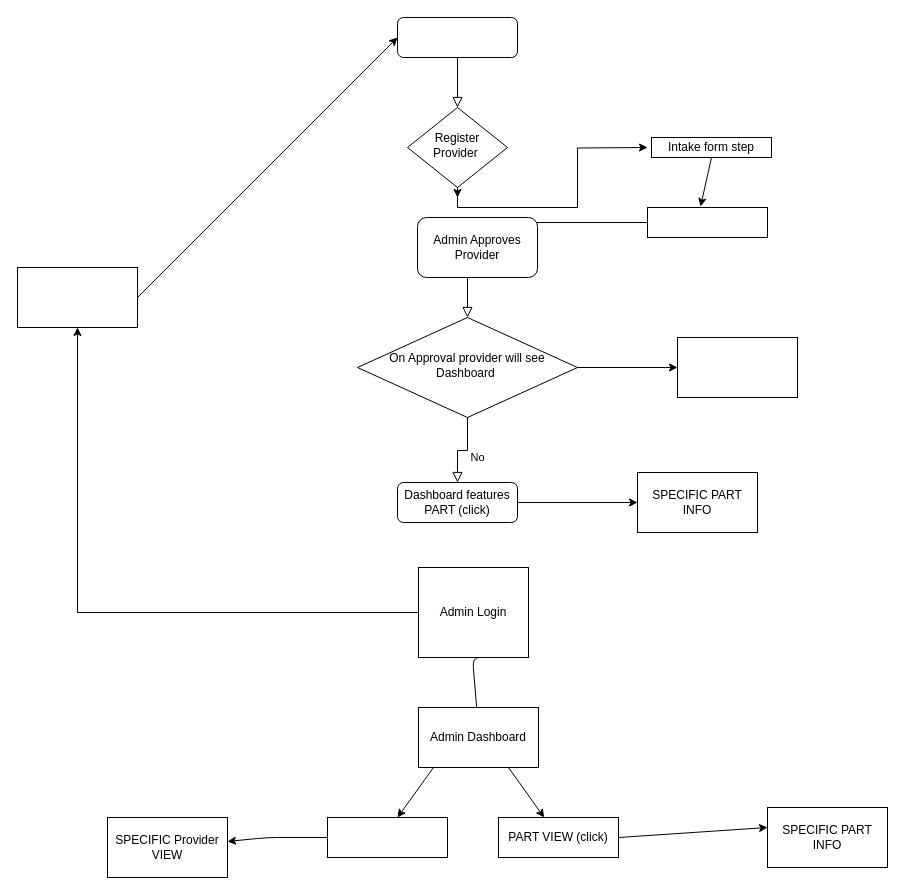
This 905x895 diagram has some shape labels left out. Each missing label, with the centre of its shape:
"Waiting on Approval by admin": point (737, 367)
Main WIX page: point (77, 297)
Profile Set-Up form: point (707, 222)
Provider VIEW (click): point (387, 837)
Register: point (457, 37)
